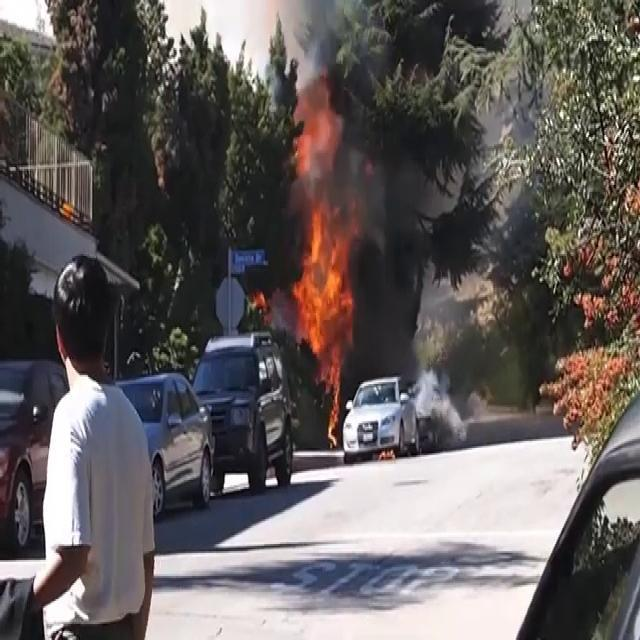Fire: (287, 100, 360, 436)
Smoke: (342, 100, 454, 372)
